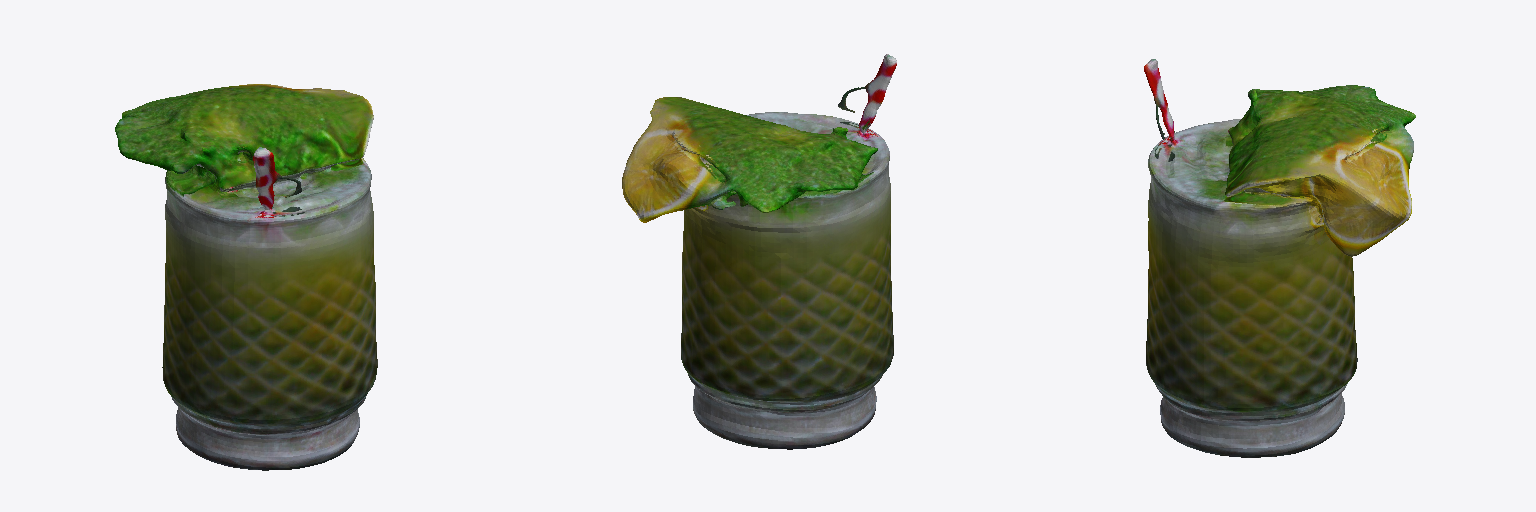
3 renders of one model, left to right at view 1: azimuth 30°, elevation 25°; view 2: azimuth 150°, elevation 25°; view 3: azimuth 270°, elevation 25°, orthographic.
Parts seen in each view (by area): view 1: mesh; view 2: mesh; view 3: mesh.
Part boxes in pixels (x1,y1,x2,y2): mesh: (115, 84, 377, 470); mesh: (622, 54, 896, 449); mesh: (1144, 59, 1415, 457).
Bounding box in the file's own units: 0.6858 × 0.9963 × 0.7326.
Materials: 1 (1 with a texture image).